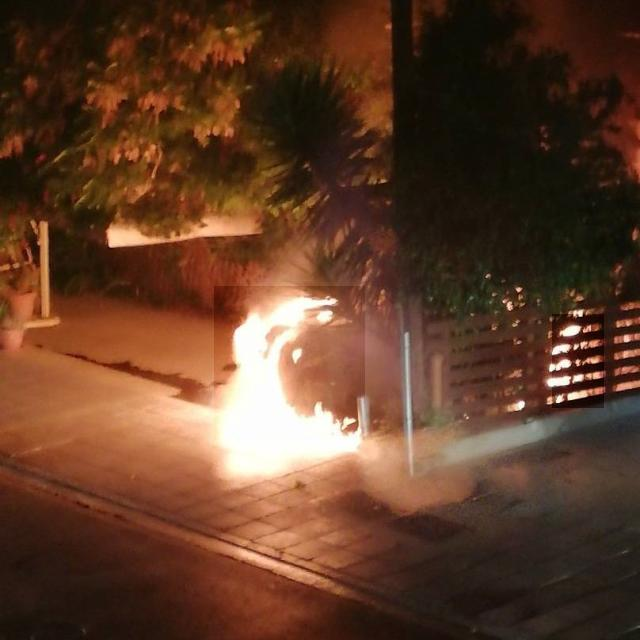Fire: (214, 286, 365, 440), (552, 314, 604, 408)
